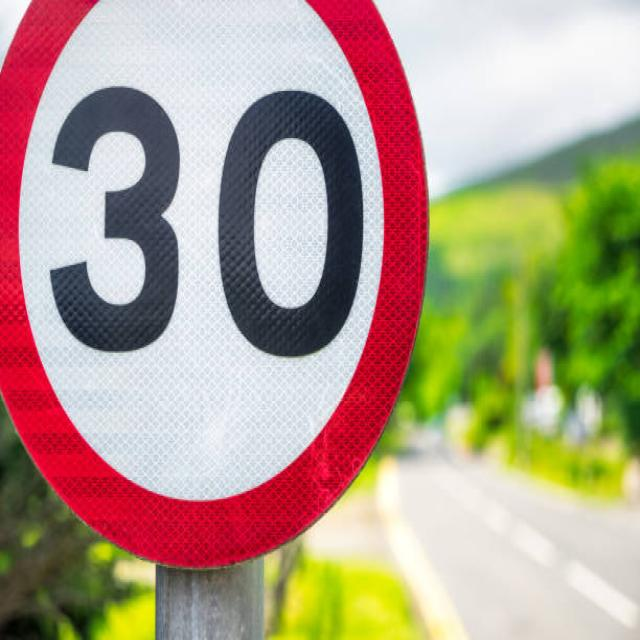Speed limit 30: (2, 3, 433, 572)
